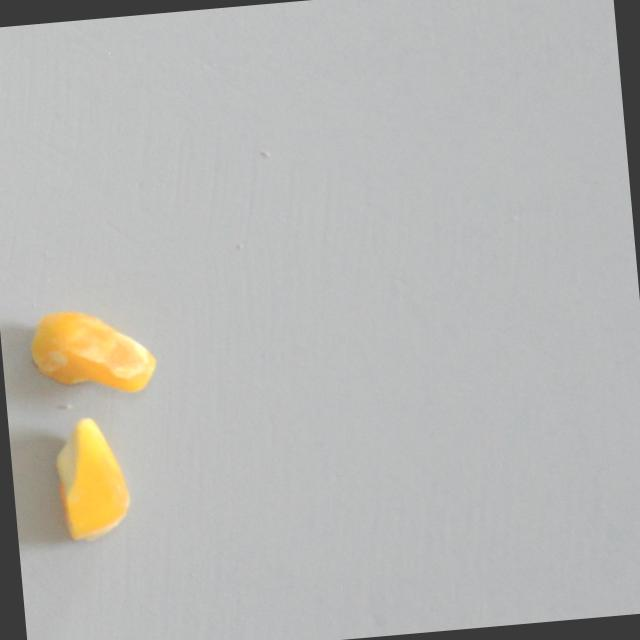estandar: (48, 414, 136, 540)
pelicula: (49, 285, 136, 419)
